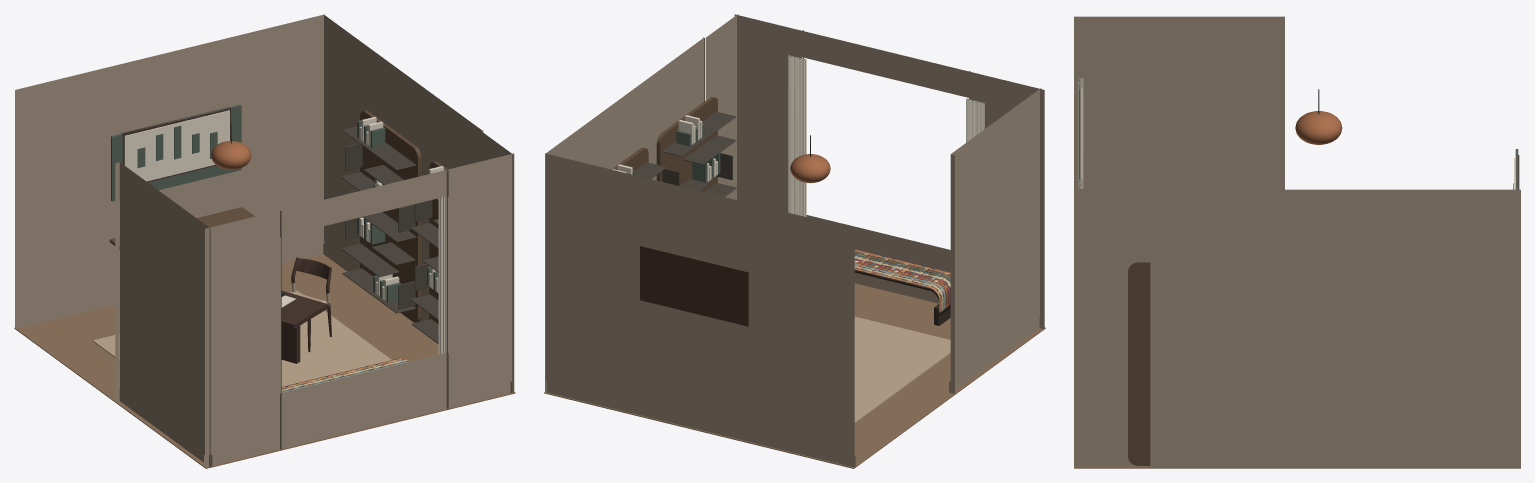
Rendered from formal-3.glb.
3 renders of one model, left to right at view 1: azimuth 30°, elevation 25°; view 2: azimuth 150°, elevation 25°; view 3: azimuth 270°, elevation 25°, orthographic. The views are drawn at different scales.
Visible parts, largest first — view 1: DESIGN | formal removable wall finish, DESIGN | formal floor finish, DESIGN | Required Blabla bookcase 2, DESIGN | Formal ground, DESIGN | Textile artwork, DESIGN | Required Blabla bookcase 1, DESIGN | Acoustic textile field, DESIGN | Formal soft window edge.001, DESIGN | Working chair facing desk, DESIGN | Working desk top, DESIGN | Atelier pendant shade, DESIGN | Required Brera anniversary window bench (+3 smaller); view 2: DESIGN | formal removable wall finish, DESIGN | formal floor finish, DESIGN | Quiet artwork frame, DESIGN | Formal ground, DESIGN | Required Blabla bookcase 1, DESIGN | Required Brera anniversary window bench, DESIGN | Formal soft window edge.001, DESIGN | Atelier pendant shade, DESIGN | Required Blabla bookcase 2, DESIGN | Formal soft window edge; view 3: DESIGN | formal removable wall finish, DESIGN | Required Blabla bookcase 1, DESIGN | Atelier pendant shade, DESIGN | formal floor finish, DESIGN | Formal soft window edge.
Boxes of the visible parts, x1,y1,x2,y2 form: DESIGN | formal removable wall finish: [15, 14, 514, 466]; DESIGN | formal floor finish: [14, 254, 515, 468]; DESIGN | Required Blabla bookcase 2: [341, 110, 421, 322]; DESIGN | Formal ground: [92, 290, 391, 386]; DESIGN | Textile artwork: [124, 110, 229, 181]; DESIGN | Required Blabla bookcase 1: [410, 161, 447, 343]; DESIGN | Acoustic textile field: [111, 104, 241, 201]; DESIGN | Formal soft window edge.001: [438, 196, 446, 354]; DESIGN | Working chair facing desk: [291, 257, 331, 352]; DESIGN | Working desk top: [281, 290, 328, 328]; DESIGN | Atelier pendant shade: [211, 141, 251, 169]; DESIGN | Required Brera anniversary window bench: [281, 357, 409, 392]; DESIGN | formal removable wall finish: [545, 14, 1044, 467]; DESIGN | formal floor finish: [544, 283, 1045, 468]; DESIGN | Quiet artwork frame: [640, 246, 748, 326]; DESIGN | Formal ground: [854, 316, 950, 423]; DESIGN | Required Blabla bookcase 1: [656, 97, 736, 196]; DESIGN | Required Brera anniversary window bench: [854, 249, 950, 325]; DESIGN | Formal soft window edge.001: [788, 55, 806, 216]; DESIGN | Atelier pendant shade: [790, 154, 830, 183]; DESIGN | Required Blabla bookcase 2: [611, 147, 666, 178]; DESIGN | Formal soft window edge: [966, 98, 984, 142]; DESIGN | formal removable wall finish: [1074, 16, 1520, 467]; DESIGN | Required Blabla bookcase 1: [1128, 262, 1150, 465]; DESIGN | Atelier pendant shade: [1295, 111, 1342, 144]; DESIGN | formal floor finish: [1074, 466, 1520, 468]; DESIGN | Formal soft window edge: [1078, 78, 1083, 181].
Bounding box in the file's own units: 3.71 × 2.74 × 3.98.
